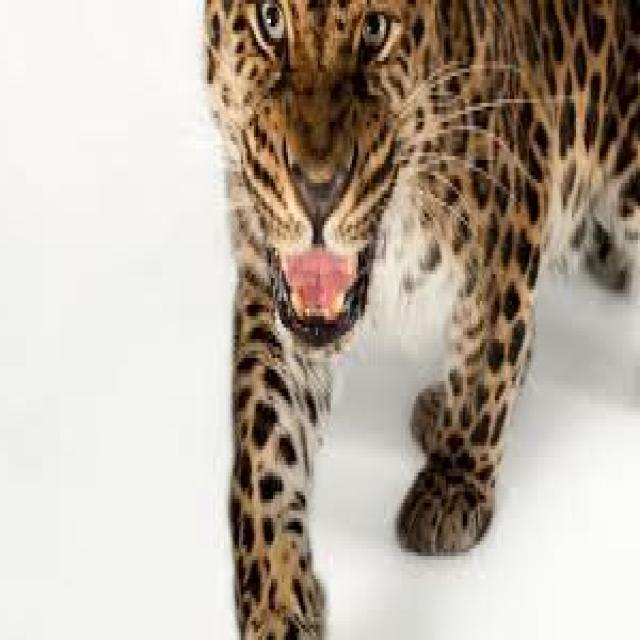leopard: (209, 0, 640, 636)
